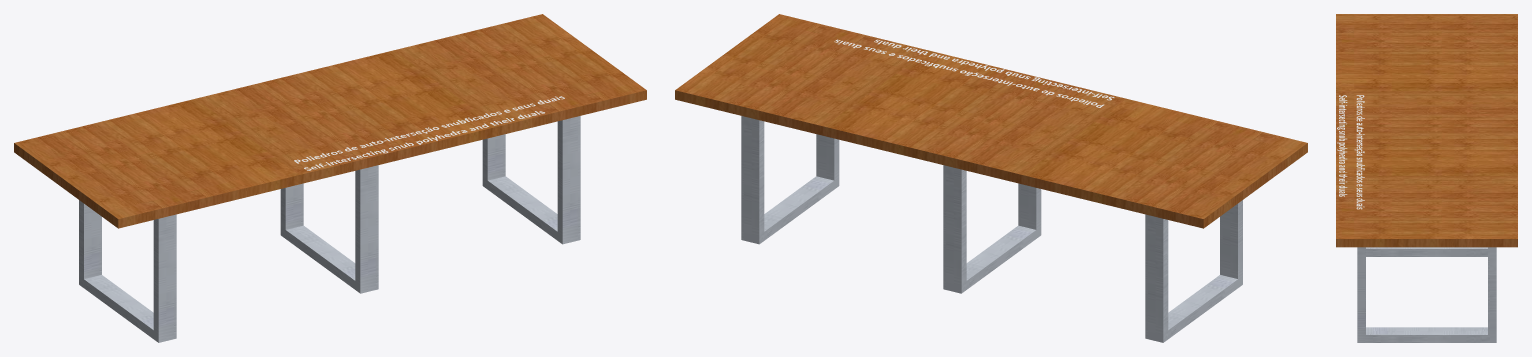
File: selfinterSnubTrunc5.glb
The picture shows the model from 3 angles, left to right: view 1: azimuth 30°, elevation 25°; view 2: azimuth 150°, elevation 25°; view 3: azimuth 270°, elevation 25°; orthographic projection. The views are drawn at different scales.
Visible parts, largest first — view 1: object 1, Composant#1 (×3), Poliedros de aut#2; view 2: object 1, Composant#1 (×3), Poliedros de aut#2; view 3: object 1, Composant#1 (×2), Poliedros de aut#2.
Boxes of the visible parts, box(x1,y1,x2,y2) form: object 1: box(14, 14, 646, 228); Composant#1 (×3): box(79, 116, 580, 342); Poliedros de aut#2: box(294, 96, 564, 170); object 1: box(675, 14, 1307, 228); Composant#1 (×3): box(741, 116, 1242, 342); Poliedros de aut#2: box(834, 39, 1114, 107); object 1: box(1336, 14, 1517, 247); Composant#1 (×2): box(1357, 247, 1496, 342); Poliedros de aut#2: box(1337, 95, 1364, 209).
Bounding box in the file's own units: 2.93 × 0.7711 × 1.
Materials: 3 (2 with a texture image).
